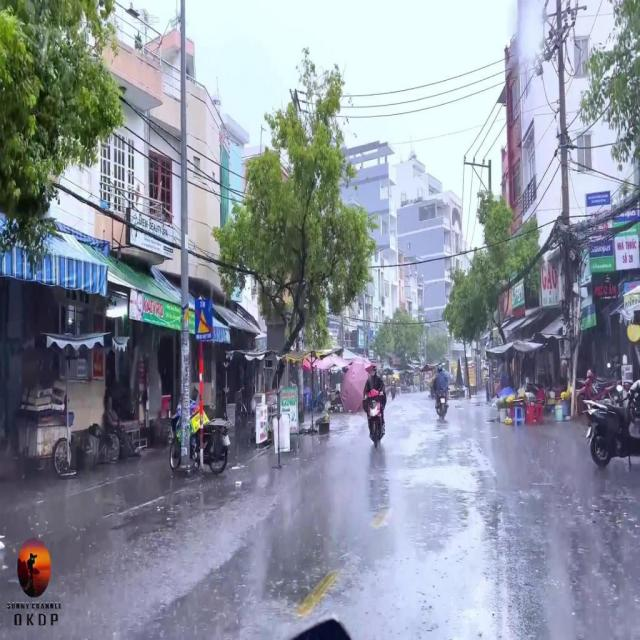khac: (194, 298, 213, 341)
